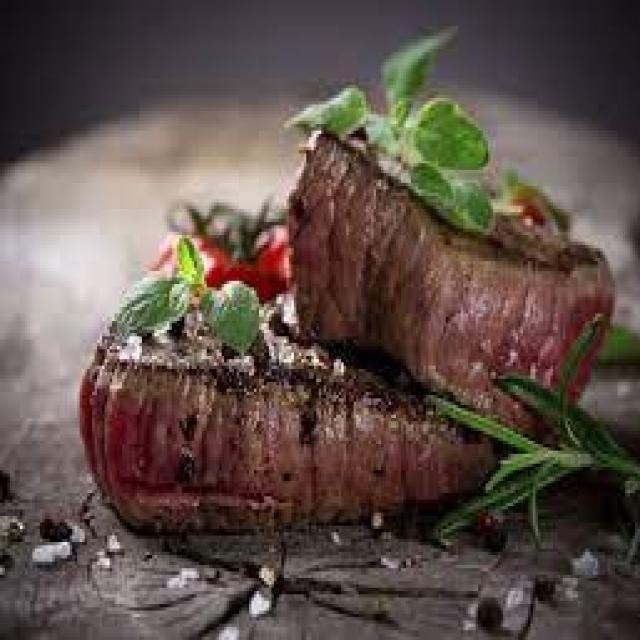Carne: (67, 124, 615, 567)
